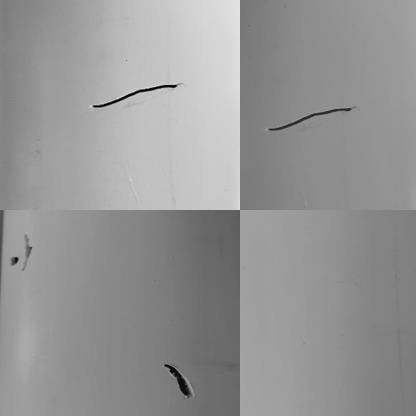fengxi: (88, 80, 185, 110), (267, 107, 360, 131)
kongdong: (161, 363, 196, 397), (7, 233, 37, 272)
